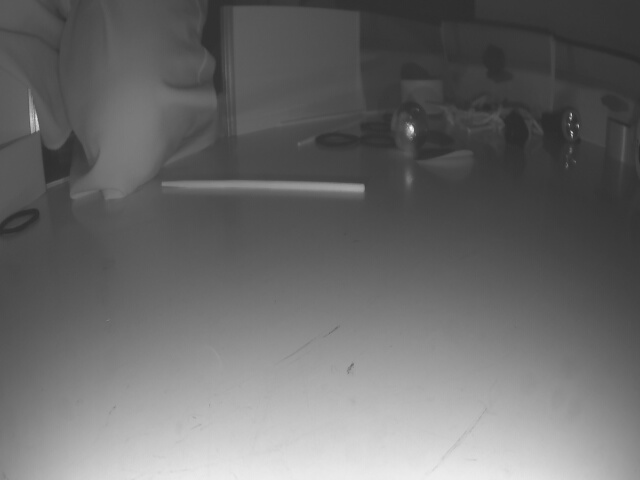Live: (392, 102, 426, 151)
Point: (0, 132, 39, 234)
